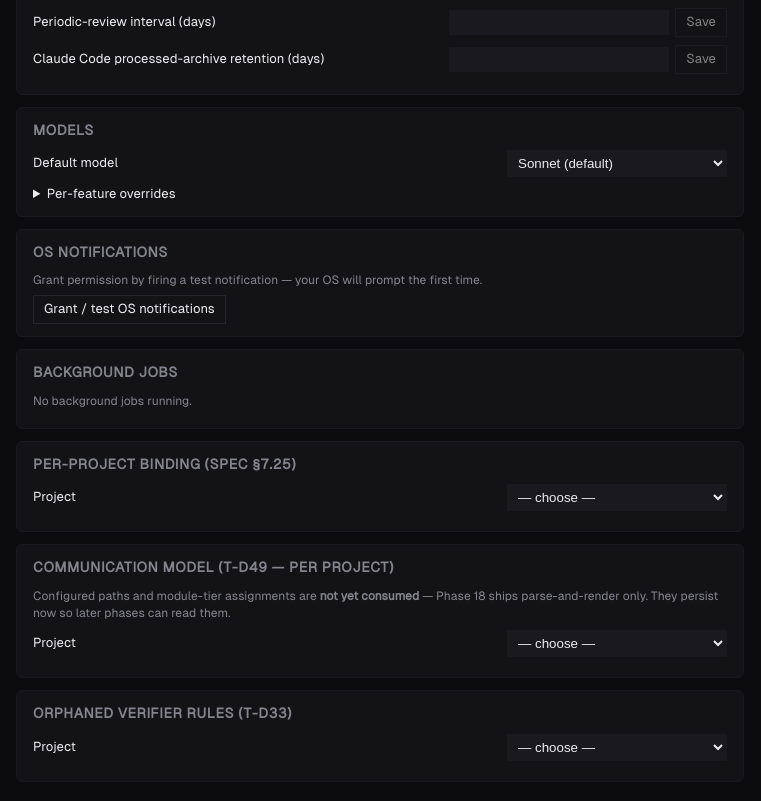
Phase 15 — settings panel (SPEC §7.25) › hides the throughline-status block on legacy responses without the field
The width and height of the screenshot is (761, 801).
(page scrolled)
Select "demo" in the dropdown with test id "project-select" at (617, 498), box x1=507 y1=484 x2=727 y2=511
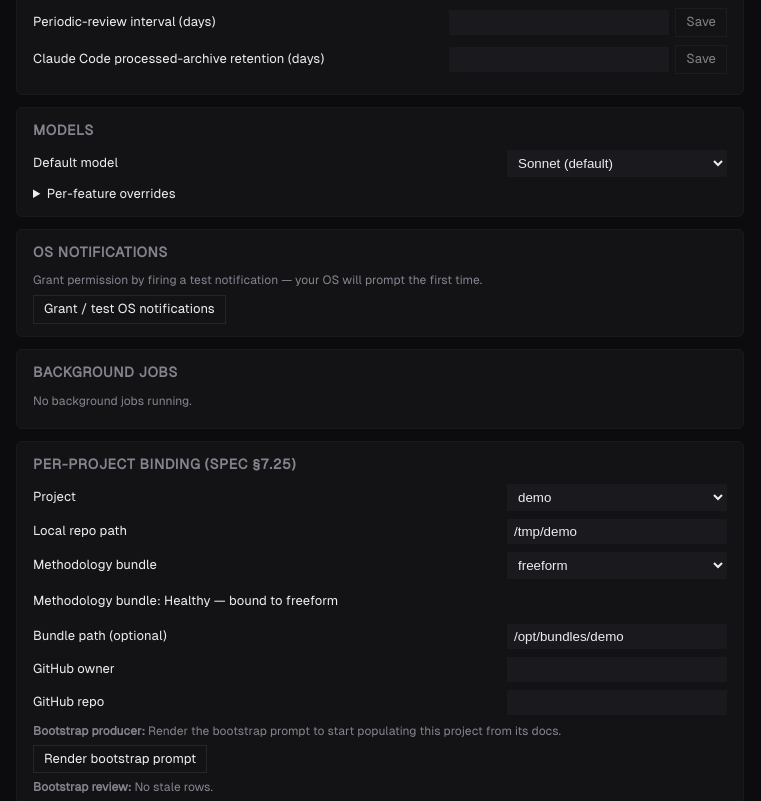
Expected: the dropdown with test id "project-bundle" is shown, x1=507 y1=552 x2=727 y2=579
